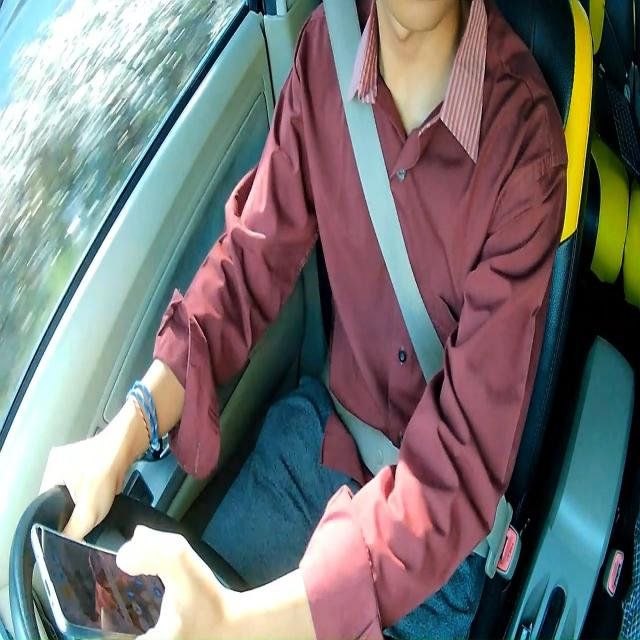phone: (29, 522, 164, 638)
